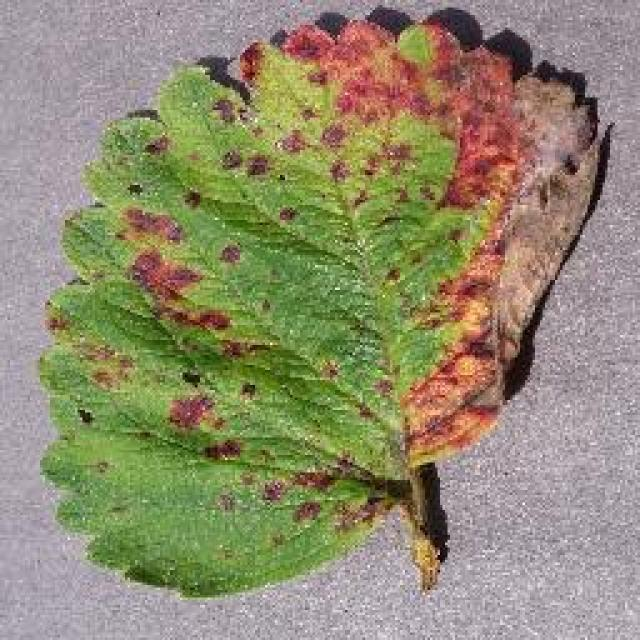Strawberry leaf scorch: (180, 80, 478, 435)
